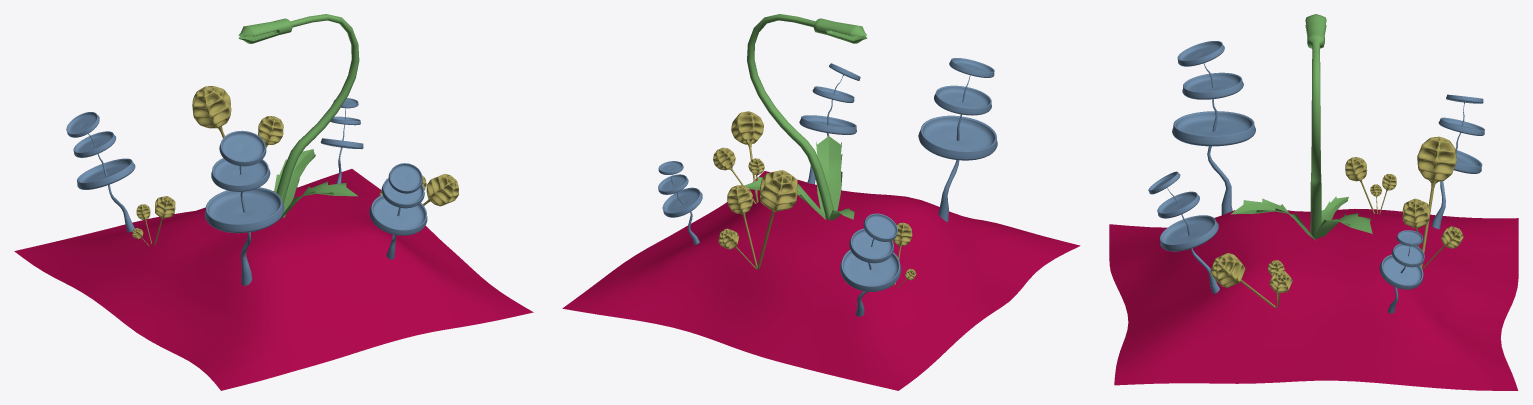
The model's file is AlienPlantsTest2.fbx.
3 renders of one model, left to right at view 1: azimuth 30°, elevation 25°; view 2: azimuth 150°, elevation 25°; view 3: azimuth 270°, elevation 25°, orthographic. The views are drawn at different scales.
Visible parts, largest first — view 1: Ground, LilyPadTree5, Leaf6, LilyPadTree6, LilyPadTree8, Flower4, Flower7, LilyPadTree7, Flower6; view 2: Ground, LilyPadTree5, Leaf6, LilyPadTree8, Flower4, LilyPadTree7, Flower7, LilyPadTree6, Flower6; view 3: Ground, LilyPadTree5, Leaf6, LilyPadTree6, Flower4, LilyPadTree7, Flower7, LilyPadTree8, Flower6.
Part boxes in pixels (<box>): Ground: <box>14,169,533,390</box>; LilyPadTree5: <box>204,130,284,285</box>; Leaf6: <box>238,14,359,219</box>; LilyPadTree6: <box>369,163,427,259</box>; LilyPadTree8: <box>66,112,135,232</box>; Flower4: <box>192,86,283,148</box>; Flower7: <box>379,174,458,206</box>; LilyPadTree7: <box>320,98,363,183</box>; Flower6: <box>132,196,175,246</box>; Ground: <box>562,171,1080,390</box>; LilyPadTree5: <box>918,58,997,221</box>; Leaf6: <box>744,14,866,220</box>; LilyPadTree8: <box>840,213,901,316</box>; Flower4: <box>718,170,797,269</box>; LilyPadTree7: <box>658,161,702,244</box>; Flower7: <box>713,111,764,203</box>; LilyPadTree6: <box>799,63,860,184</box>; Flower6: <box>893,222,916,288</box>; Ground: <box>1109,209,1518,390</box>; LilyPadTree5: <box>1172,41,1255,215</box>; Leaf6: <box>1230,14,1372,240</box>; LilyPadTree6: <box>1148,171,1219,293</box>; Flower4: <box>1402,136,1463,269</box>; LilyPadTree7: <box>1379,230,1424,313</box>; Flower7: <box>1210,253,1292,307</box>; LilyPadTree8: <box>1431,94,1484,229</box>; Flower6: <box>1345,157,1396,214</box>.
Bounding box in the file's own units: 147 × 109 × 147.
